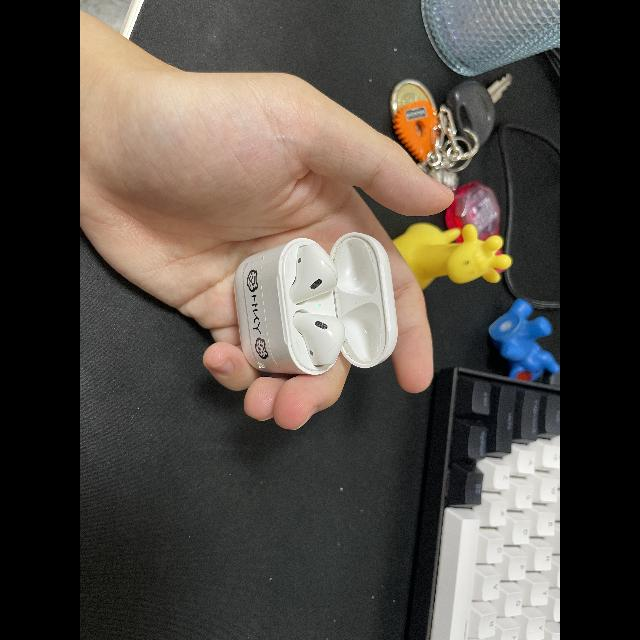airpod2: (229, 228, 401, 390)
